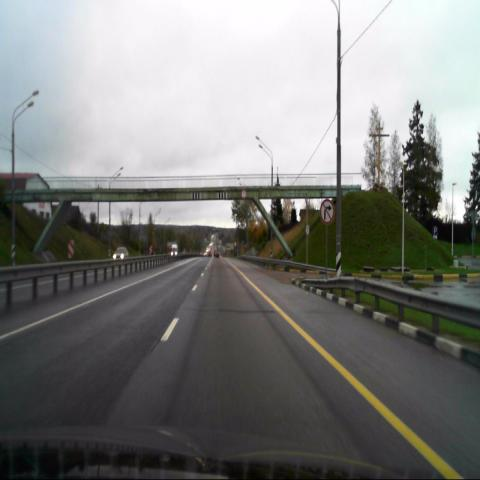3_18: (320, 199, 334, 223)
